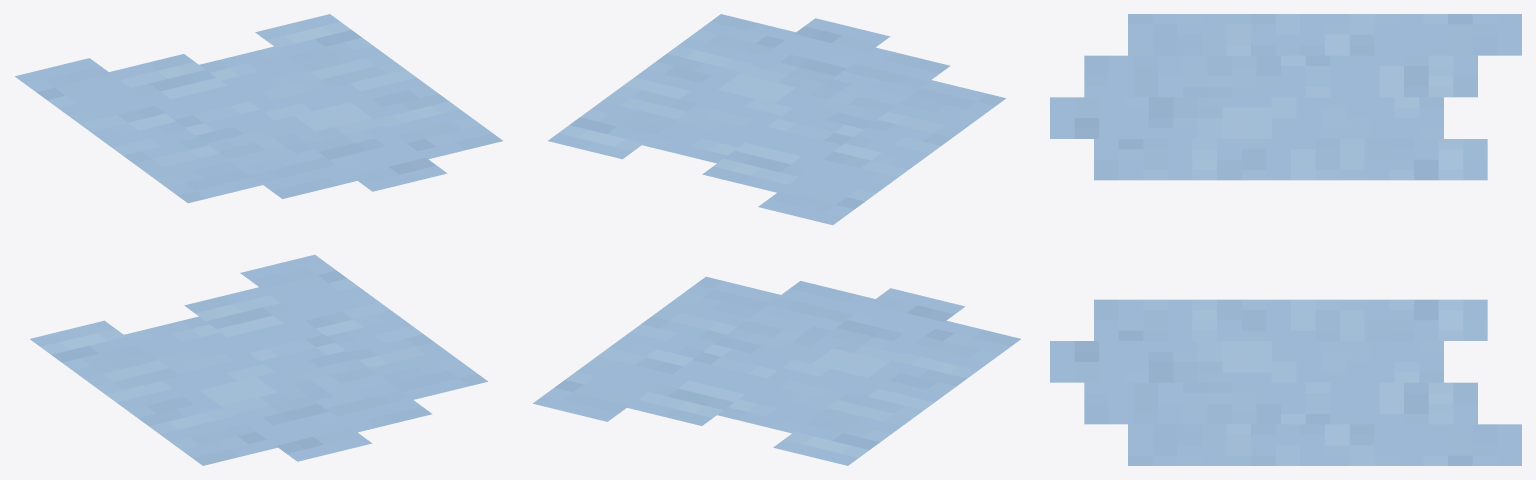
Rendered from water-ice.glb.
3 renders of one model, left to right at view 1: azimuth 30°, elevation 25°; view 2: azimuth 150°, elevation 25°; view 3: azimuth 270°, elevation 25°, orthographic. The views are drawn at different scales.
Visible parts, largest first — view 1: wave-1.001, wave-3.001, wave-2.001, wave-4.001; view 2: wave-1.001, wave-3.001, wave-2.001, wave-4.001; view 3: wave-2.001, wave-1.001, wave-3.001, wave-4.001.
Boxes of the visible parts, x1=… form: wave-1.001: x1=15, y1=58, x2=487, y2=399; wave-3.001: x1=124, y1=46, x2=447, y2=461; wave-2.001: x1=109, y1=54, x2=431, y2=432; wave-4.001: x1=30, y1=14, x2=502, y2=465; wave-1.001: x1=533, y1=80, x2=1005, y2=421; wave-3.001: x1=642, y1=18, x2=965, y2=433; wave-2.001: x1=627, y1=47, x2=949, y2=425; wave-4.001: x1=548, y1=14, x2=1020, y2=465; wave-2.001: x1=1084, y1=55, x2=1477, y2=424; wave-1.001: x1=1128, y1=14, x2=1521, y2=465; wave-3.001: x1=1050, y1=97, x2=1443, y2=382; wave-4.001: x1=1094, y1=139, x2=1487, y2=340.
Bounding box in the file's own units: 1 × 0.8 × 1.2.
1 material, 1 textured.
